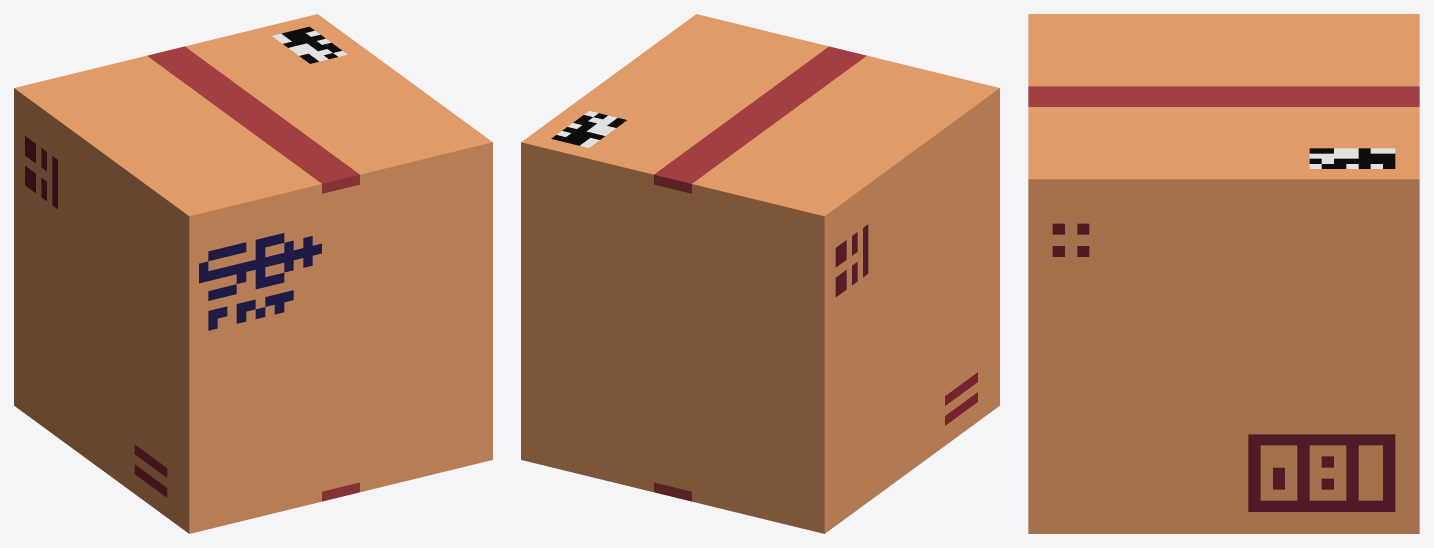
File: caja carton 2.obj
3 views of the same model, side by side, from view 1: azimuth 30°, elevation 25°; view 2: azimuth 150°, elevation 25°; view 3: azimuth 270°, elevation 25° (orthographic). The views are drawn at different scales.
Size of the model in its own units: 3.2 by 3.2 by 3.2.
1 material, 1 textured.
